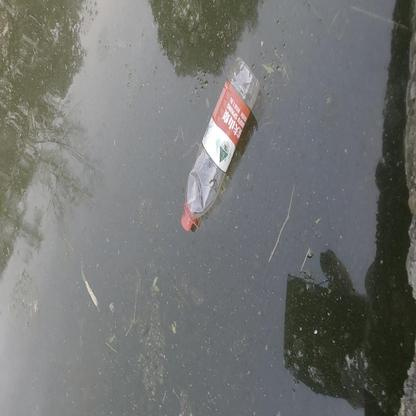plastic bottle: (180, 56, 261, 232)
